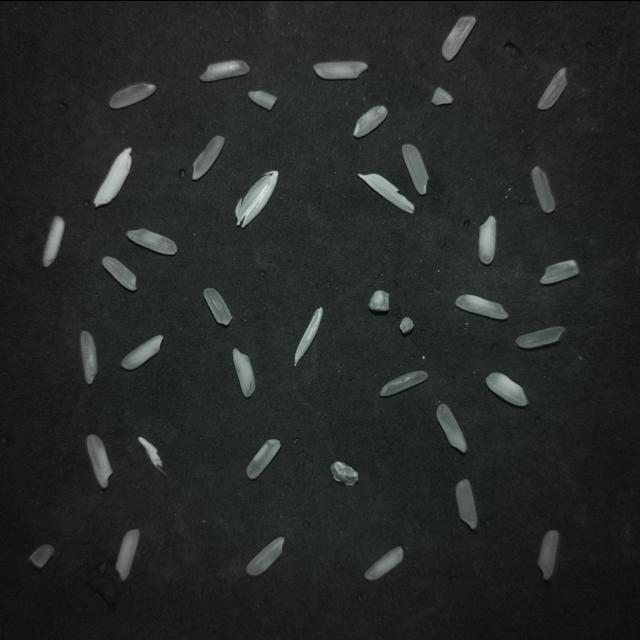broken: (540, 259, 578, 283), (30, 544, 54, 568), (432, 86, 453, 105)
chalky: (442, 16, 476, 60), (122, 334, 163, 369), (486, 371, 528, 405), (247, 536, 284, 574), (247, 439, 281, 478), (87, 434, 112, 487), (455, 294, 508, 318), (365, 546, 403, 579), (116, 528, 139, 580), (200, 59, 249, 81), (233, 348, 255, 396), (354, 105, 388, 136), (43, 216, 64, 266), (538, 529, 559, 579), (314, 61, 368, 78), (80, 330, 97, 383), (479, 216, 496, 263), (249, 91, 277, 109)
foreign: (236, 171, 278, 226), (94, 147, 131, 206), (359, 173, 414, 211), (139, 436, 165, 473), (331, 461, 358, 485), (369, 289, 389, 310), (400, 316, 414, 333)
whole: (295, 307, 323, 365), (437, 403, 467, 451), (193, 135, 224, 179), (127, 228, 177, 254), (402, 144, 428, 193), (110, 82, 156, 108), (538, 67, 566, 109), (380, 371, 428, 395), (102, 256, 136, 289), (516, 326, 565, 348), (531, 166, 554, 212), (456, 479, 477, 528), (204, 287, 231, 324)
